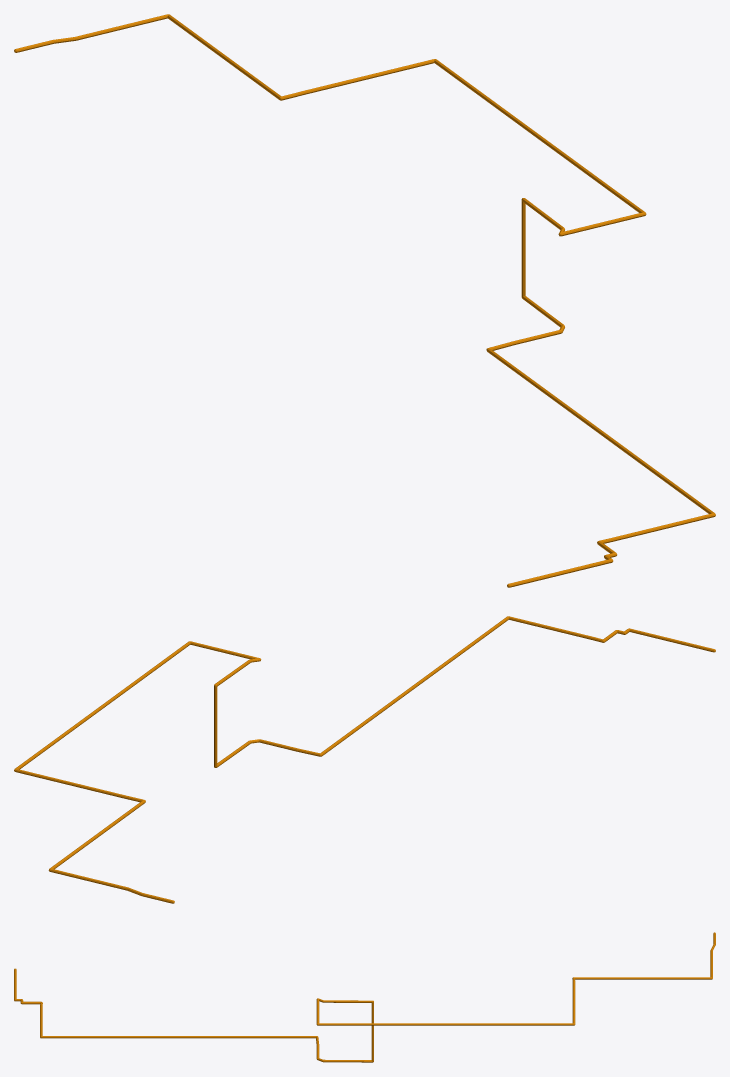
3 views of the same model, one above another, from view 1: azimuth 30°, elevation 25°; view 2: azimuth 150°, elevation 25°; view 3: azimuth 270°, elevation 25° (orthographic). The views are drawn at different scales.
Size of the model in its own units: 2078 by 520 by 5345.
